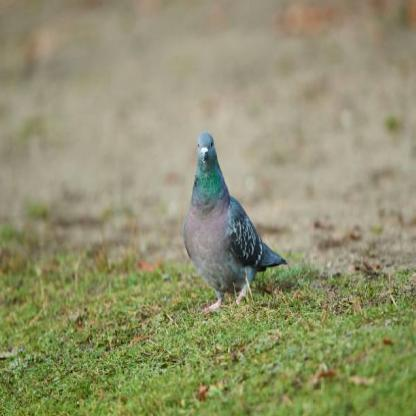Flying Rat: (177, 129, 283, 316)
